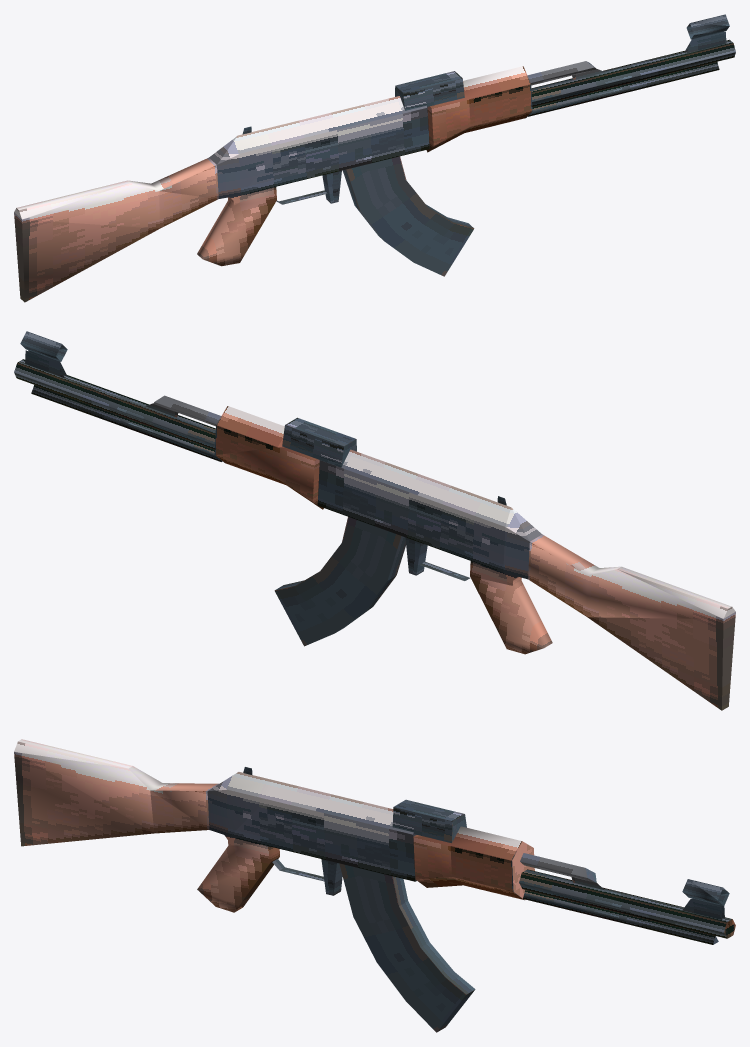
3 views of the same model, one above another, from view 1: azimuth 30°, elevation 25°; view 2: azimuth 150°, elevation 25°; view 3: azimuth 330°, elevation 25° (orthographic). The views are drawn at different scales.
Visible parts, largest first — view 1: ak47; view 2: ak47; view 3: ak47.
Part boxes in pixels (x1,y1,x2,y2): ak47: (14,14,735,302); ak47: (14,331,735,710); ak47: (14,739,735,1032).
Bounding box in the file's own units: 1.09 × 0.3153 × 0.1305.
Materials: 1 (1 with a texture image).
